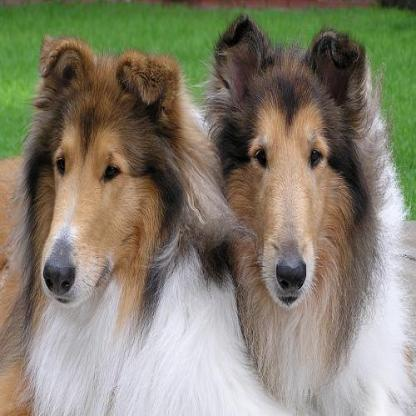collie: (0, 34, 244, 414), (207, 15, 413, 412)
